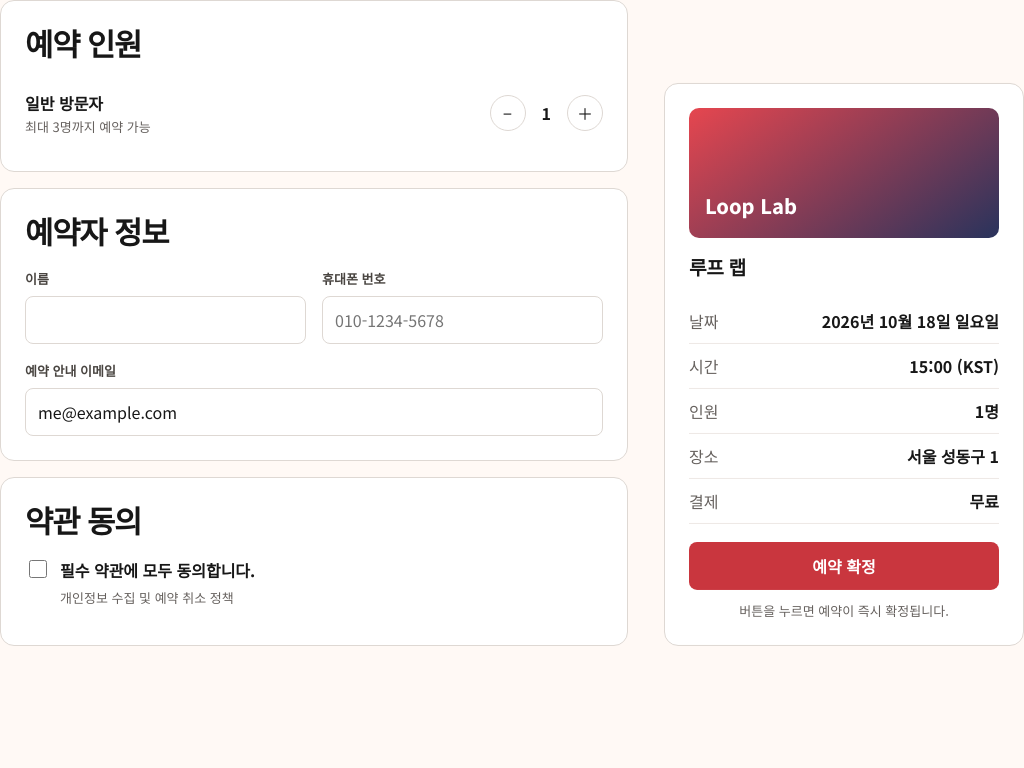
server errors show next to fields and in an alert while input is kept
Click the button named "인원 늘리기". click: coordinates (585, 113)
box: [567, 95, 603, 131]
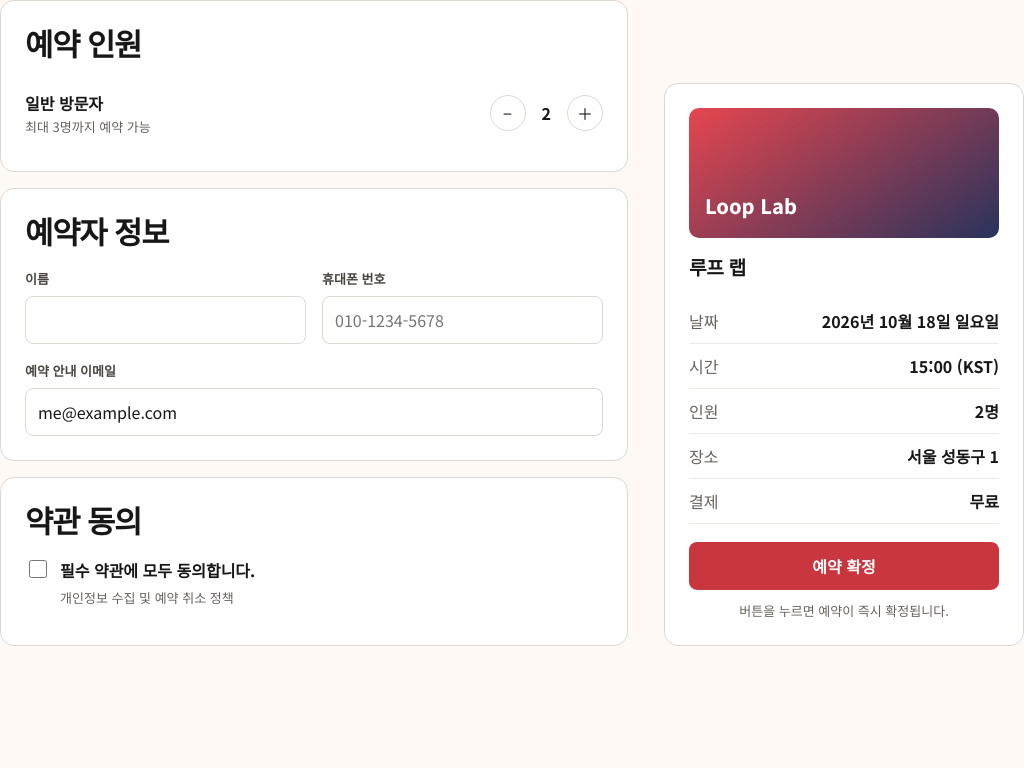
Type "김팝업" into the field labelled "이름". click: coordinates (166, 320)
box: [25, 296, 306, 344]
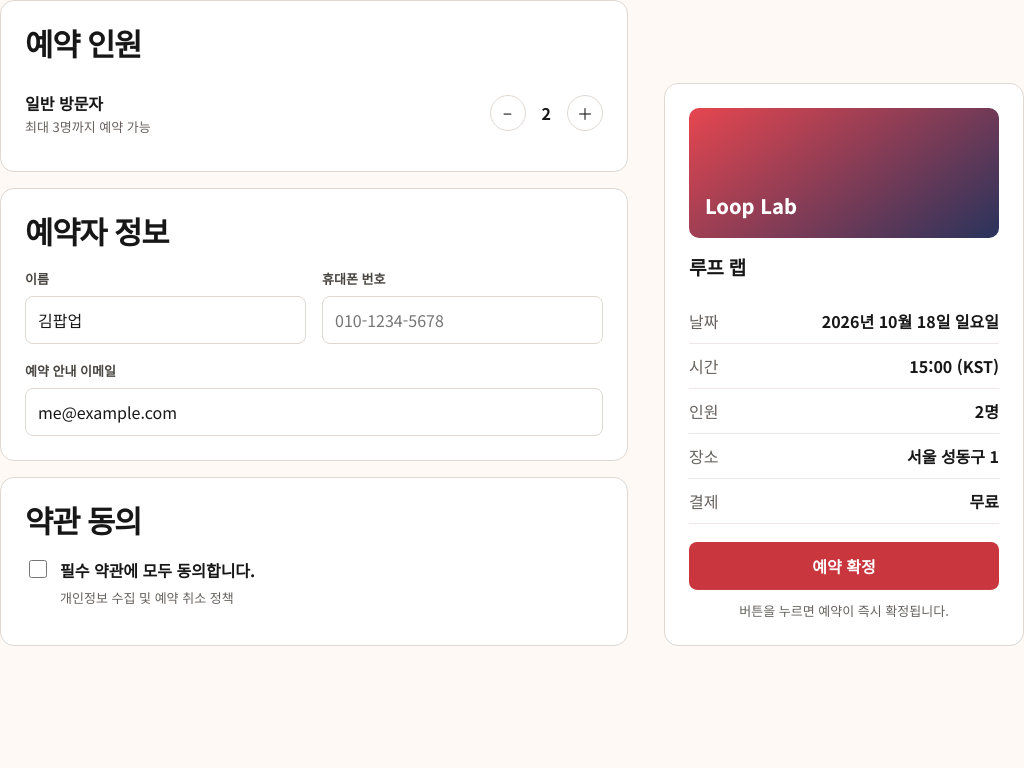
Type "010-12" into the field labelled "휴대폰 번호". click: coordinates (462, 320)
box: [322, 296, 603, 344]
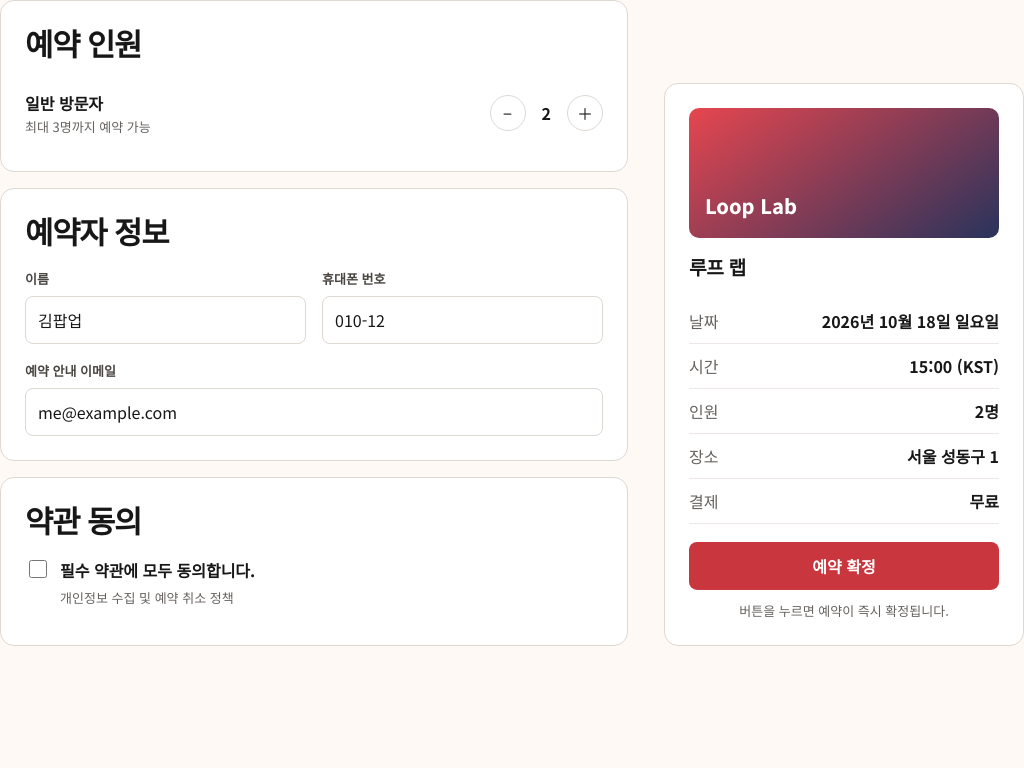
Click the checkbox. click: coordinates (38, 569)
box: [29, 560, 47, 578]
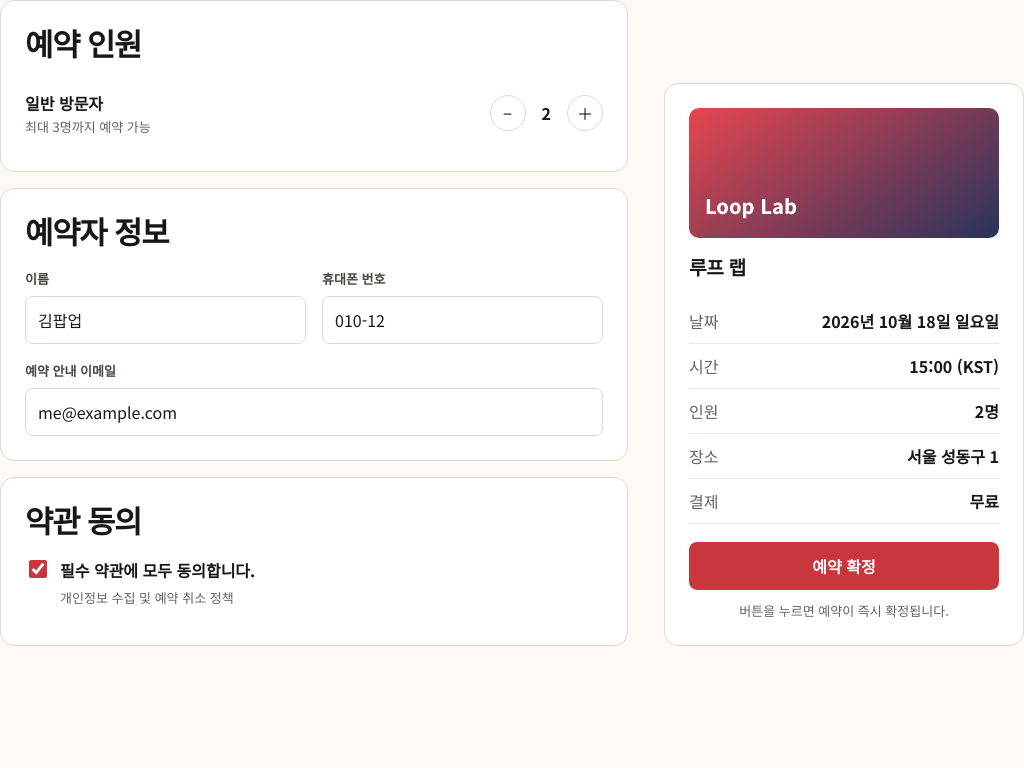
Submit the form
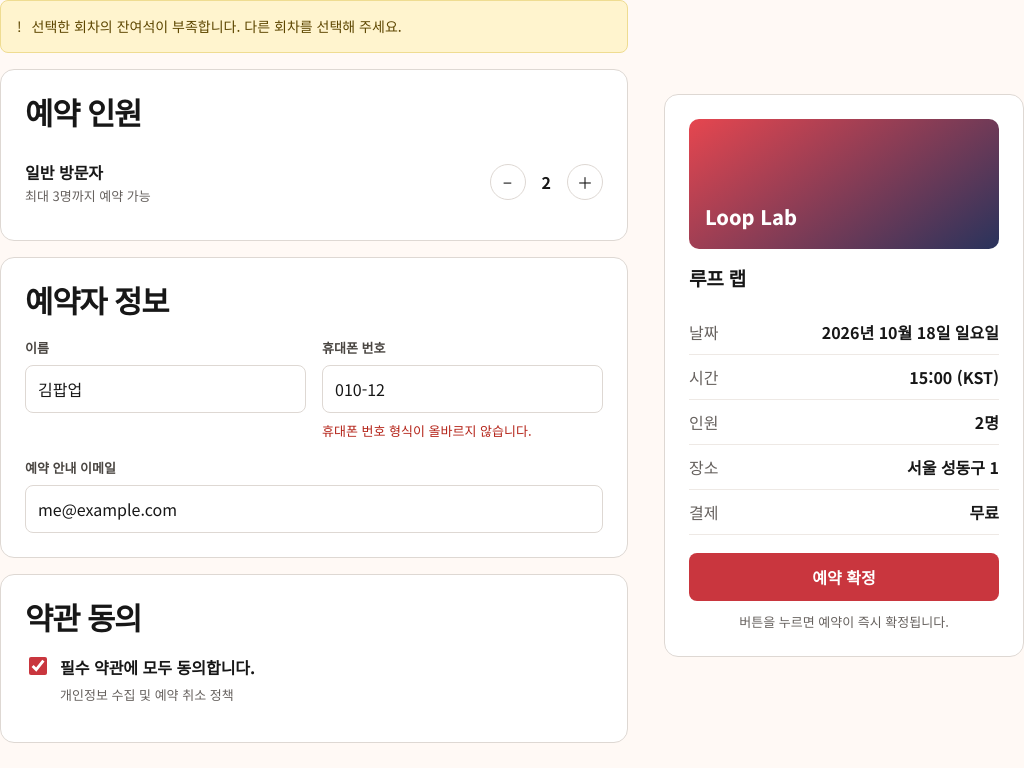
Expected: the checkbox is checked, [29, 657, 47, 675]
Expected: the message shows "잔여석이 부족합니다", [32, 16, 402, 36]
Expected: the text "휴대폰 번호 형식이 올바르지 않습니다." is shown, [322, 421, 532, 440]
